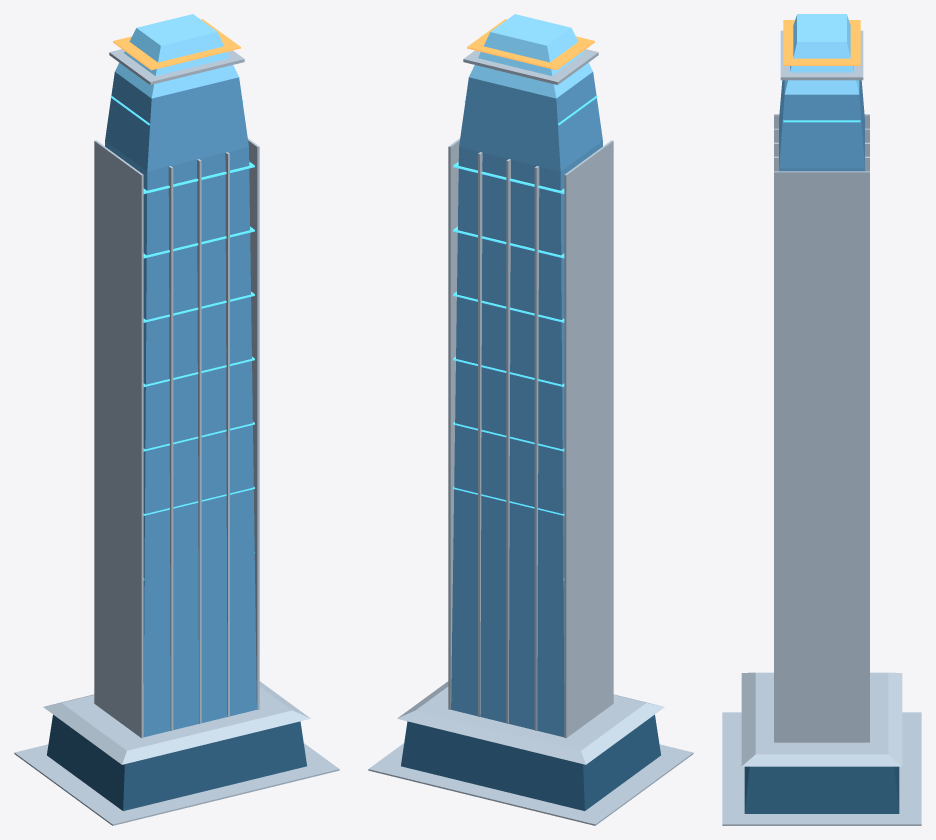
Rendered from cwtc-3b.glb.
The picture shows the model from 3 angles, left to right: view 1: azimuth 30°, elevation 25°; view 2: azimuth 150°, elevation 25°; view 3: azimuth 270°, elevation 25°; orthographic projection.
Parts seen in each view (by area): view 1: cwtc-3b-glassBlue, cwtc-3b-frame, cwtc-3b-glassDeep, cwtc-3b-crown, cwtc-3b-lightCyan, cwtc-3b-lightWarm; view 2: cwtc-3b-glassBlue, cwtc-3b-frame, cwtc-3b-glassDeep, cwtc-3b-crown, cwtc-3b-lightCyan, cwtc-3b-lightWarm; view 3: cwtc-3b-frame, cwtc-3b-glassDeep, cwtc-3b-glassBlue, cwtc-3b-crown, cwtc-3b-lightWarm.
Boxes of the visible parts, <box> form: cwtc-3b-glassBlue: <box>105,72,256,737</box>; cwtc-3b-frame: <box>14,49,339,825</box>; cwtc-3b-glassDeep: <box>47,714,306,810</box>; cwtc-3b-crown: <box>115,14,238,98</box>; cwtc-3b-lightCyan: <box>110,96,254,579</box>; cwtc-3b-lightWarm: <box>113,19,240,70</box>; cwtc-3b-glassBlue: <box>451,72,602,737</box>; cwtc-3b-frame: <box>368,49,693,825</box>; cwtc-3b-glassDeep: <box>401,714,660,810</box>; cwtc-3b-crown: <box>469,14,592,98</box>; cwtc-3b-lightCyan: <box>453,96,597,579</box>; cwtc-3b-lightWarm: <box>467,19,594,70</box>; cwtc-3b-frame: <box>722,30,921,825</box>; cwtc-3b-glassDeep: <box>744,766,899,813</box>; cwtc-3b-glassBlue: <box>779,80,864,171</box>; cwtc-3b-crown: <box>784,14,859,94</box>; cwtc-3b-lightWarm: <box>783,20,860,65</box>.
Bounding box in the file's own units: 96 × 296 × 72.
